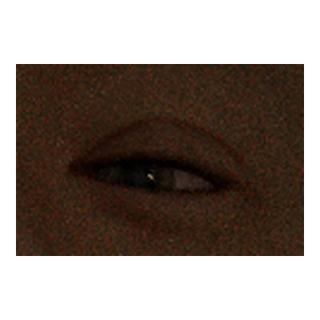pupil: (117, 165, 154, 202)
